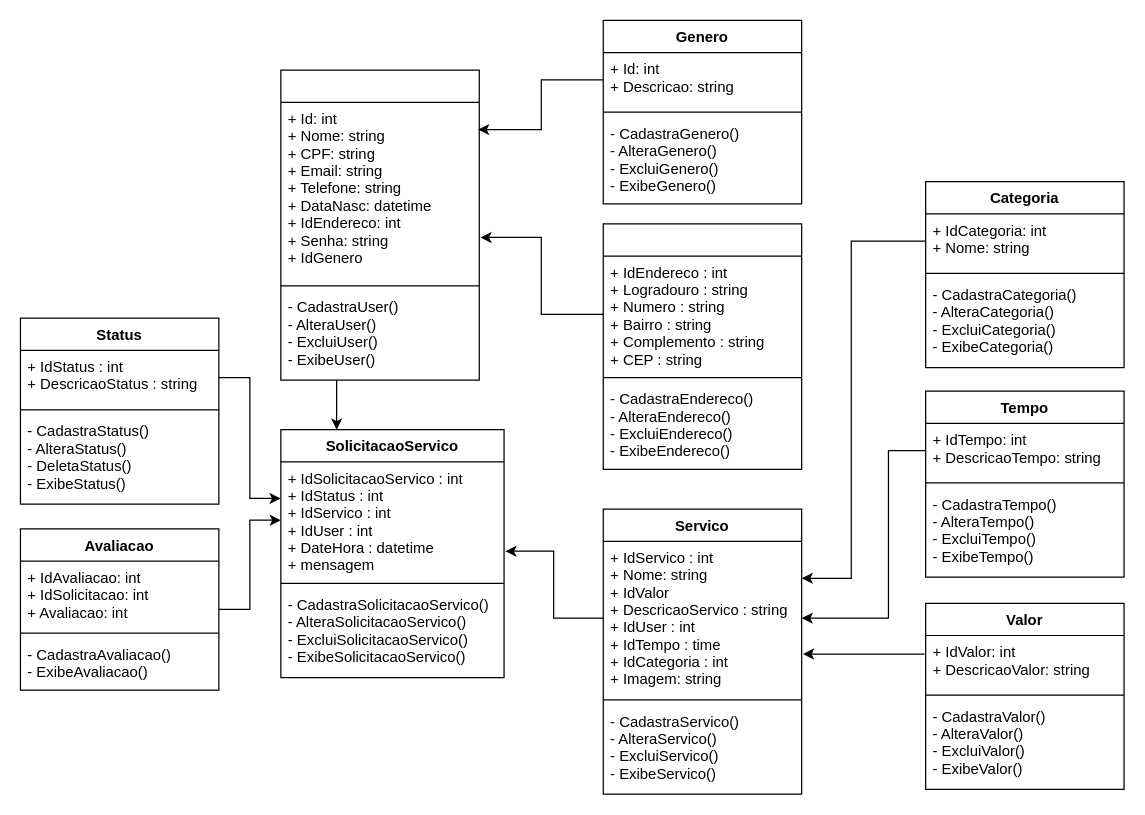
This 1145x815 diagram has some shape labels left out. Here are the shapes that lost their labels. From the top down, the box of each, then its label:
(280, 69, 479, 380): Usuario
(602, 223, 802, 469): Classname
